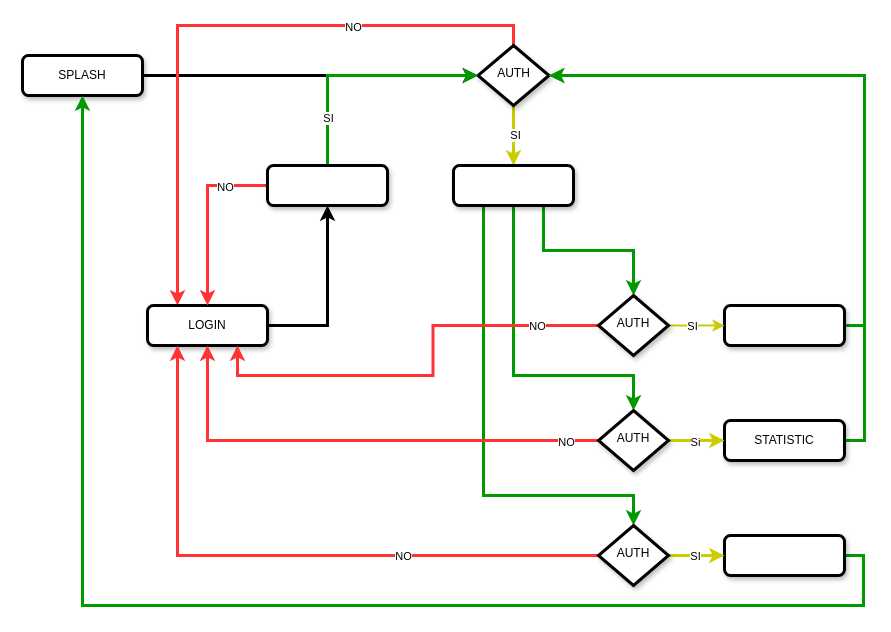
Some shapes in this 891 by 632 pixel diagram are drawn without their labels. Here are the shapes that lost their labels. From the top down, the centre of each, then its label:
At pixel 328 187: "ACCESS".
At pixel 514 187: "MENU".
At pixel 785 327: "ORDER".
At pixel 785 557: "LOGOUT".
